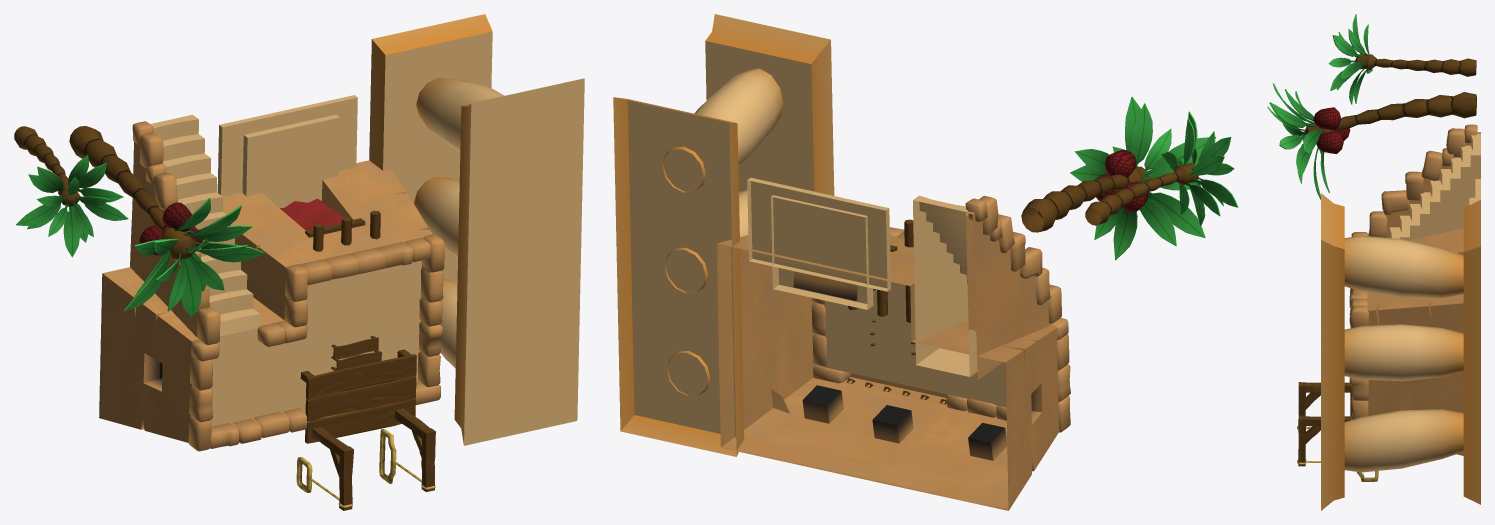
The model's file is nha.fbx.
The picture shows the model from 3 angles, left to right: view 1: azimuth 30°, elevation 25°; view 2: azimuth 150°, elevation 25°; view 3: azimuth 270°, elevation 25°; orthographic projection. The views are drawn at different scales.
Visible parts, largest first — view 1: SM_Building, SM_Pillars, SM_PalmTrees; view 2: SM_Building, SM_Pillars, SM_PalmTrees; view 3: SM_Pillars, SM_Building, SM_PalmTrees.
Boxes of the visible parts, x1,y1,x2,y2 form: SM_Building: (99,95,444,510); SM_Pillars: (369,14,584,445); SM_PalmTrees: (14,126,264,317); SM_Building: (716,177,1070,510); SM_Pillars: (613,14,834,456); SM_PalmTrees: (1021,97,1238,260); SM_Pillars: (1321,193,1480,510); SM_Building: (1297,124,1480,481); SM_PalmTrees: (1267,14,1476,199).
Bounding box in the file's own units: 1627 × 1183 × 694.
